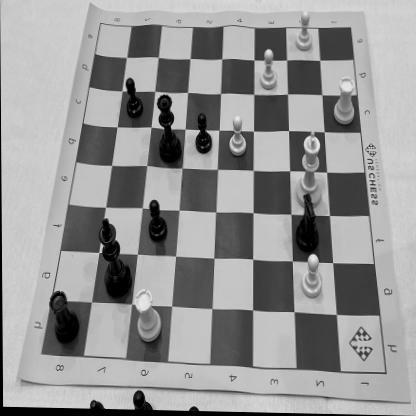black-king: (96, 216, 136, 303)
black-knight: (292, 192, 323, 252)
black-pawn: (145, 198, 169, 248), (123, 74, 144, 123), (194, 112, 214, 158)
black-queen: (156, 92, 182, 166)
black-rook: (48, 288, 80, 348), (134, 286, 164, 346)
white-king: (294, 125, 324, 210)
white-pawn: (300, 253, 324, 300), (258, 47, 280, 92), (227, 114, 248, 161), (294, 9, 315, 53)
white-rook: (331, 76, 358, 126)
